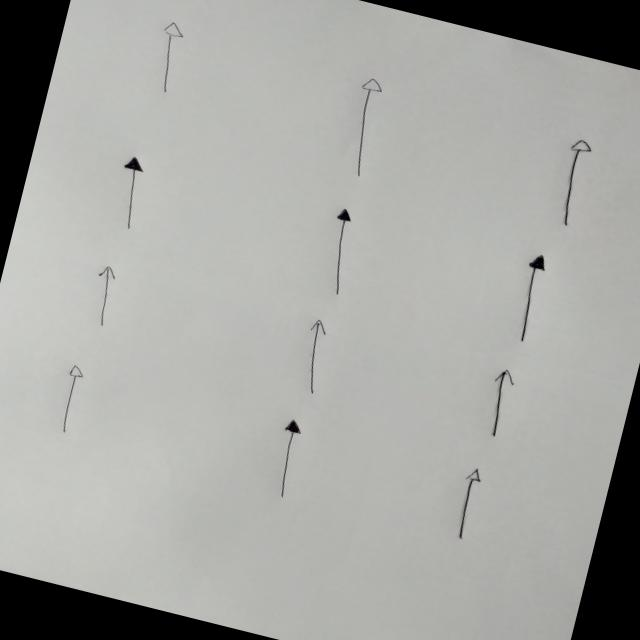arrow_line_up: (338, 76, 388, 178), (314, 205, 362, 298), (549, 136, 596, 228), (508, 252, 550, 343), (146, 18, 192, 96), (107, 154, 152, 232), (266, 418, 309, 499), (292, 316, 335, 396), (478, 366, 518, 438), (449, 464, 485, 543), (52, 362, 87, 436), (82, 262, 120, 328)
